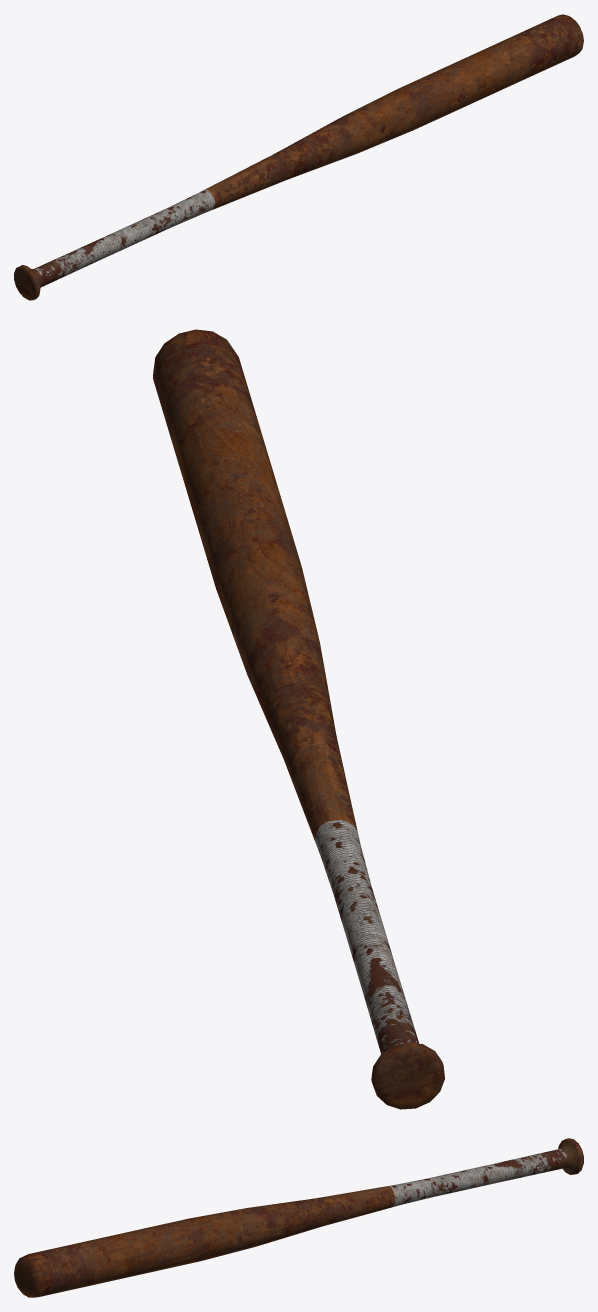
File: Anim_idle_bate_objetos.0052.obj
3 renders of one model, top to bottom at view 1: azimuth 90°, elevation 25°; view 2: azimuth 150°, elevation 25°; view 3: azimuth 270°, elevation 25°, orthographic. The views are drawn at different scales.
Parts seen in each view (by area): view 1: Bate1; view 2: Bate1; view 3: Bate1.
Part boxes in pixels (bbox=[...]): Bate1: bbox=[14, 14, 583, 300]; Bate1: bbox=[153, 329, 444, 1109]; Bate1: bbox=[14, 1138, 583, 1297].
Size of the model in its own units: 3.53 by 0.8333 by 4.29.
